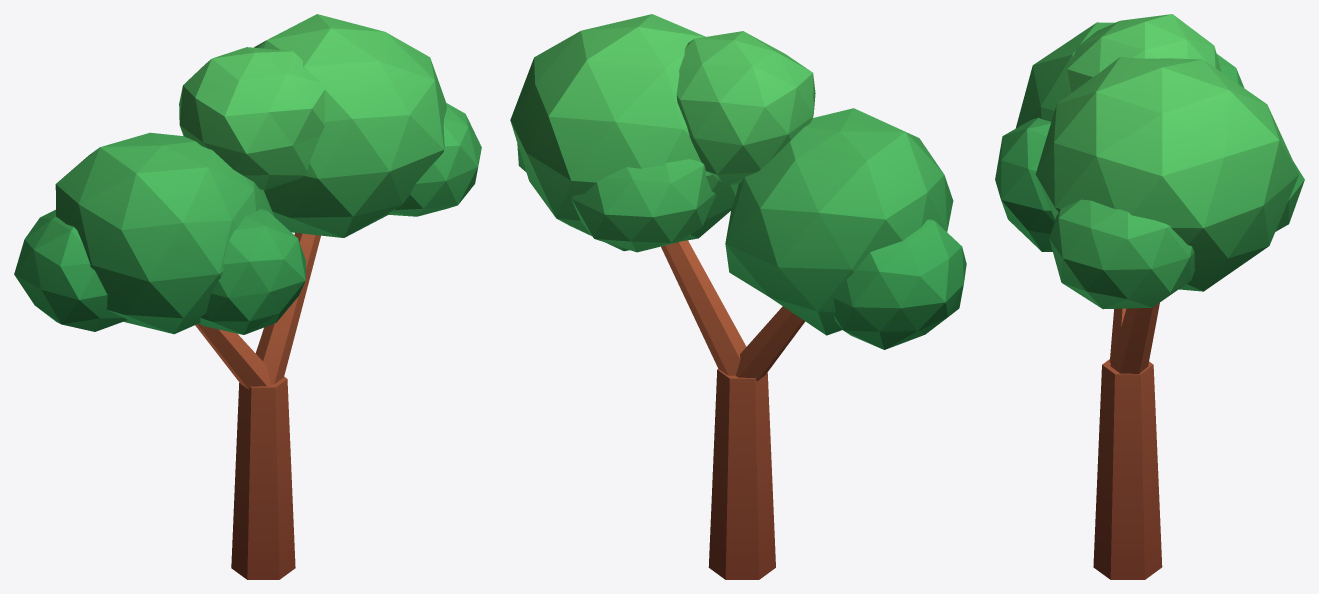
Rendered from arbol_E.glb.
The picture shows the model from 3 angles, left to right: view 1: azimuth 30°, elevation 25°; view 2: azimuth 150°, elevation 25°; view 3: azimuth 270°, elevation 25°; orthographic projection. The views are drawn at different scales.
Parts seen in each view (by area): view 1: arbol_E; view 2: arbol_E; view 3: arbol_E.
Boxes of the visible parts, box(x1,y1,x2,y2) form: arbol_E: box(14, 14, 481, 579); arbol_E: box(510, 14, 966, 579); arbol_E: box(995, 14, 1304, 579).
Bounding box in the file's own units: 3.08 × 3.5 × 1.8.
1 material, 1 textured.
